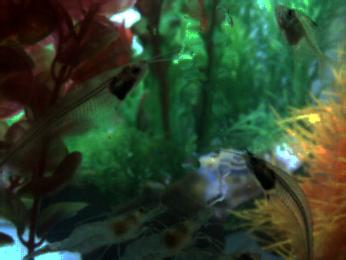X-ray fish: (273, 3, 332, 78)
glassfish: (1, 59, 151, 173), (239, 150, 318, 260)
siberian prawn: (37, 204, 170, 254), (118, 206, 218, 260)
